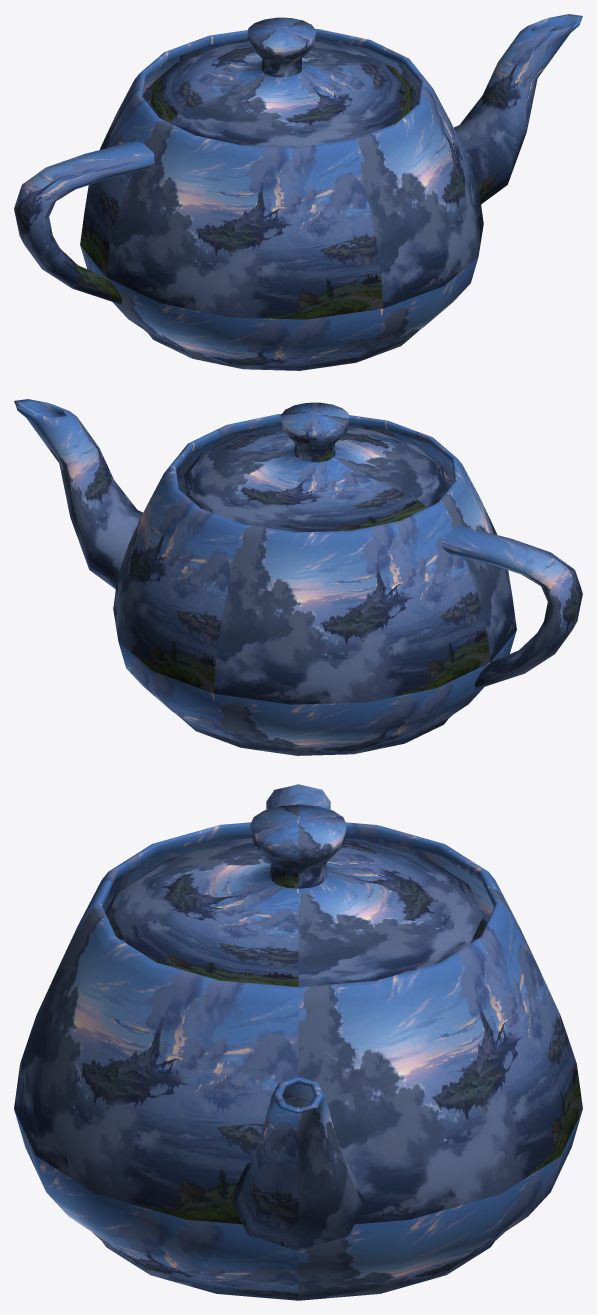
Rendered from Tea.FBX.
3 renders of one model, top to bottom at view 1: azimuth 30°, elevation 25°; view 2: azimuth 150°, elevation 25°; view 3: azimuth 270°, elevation 25°, orthographic. The views are drawn at different scales.
Parts seen in each view (by area): view 1: Teapot001; view 2: Teapot001; view 3: Teapot001.
Boxes of the visible parts, x1,y1,x2,y2 form: Teapot001: (14, 14, 582, 370); Teapot001: (14, 399, 582, 755); Teapot001: (14, 784, 582, 1300).
Bounding box in the file's own units: 6.43 × 3.15 × 4.
Materials: 1 (1 with a texture image).
